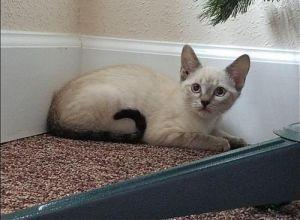siamese: (175, 41, 256, 125)
